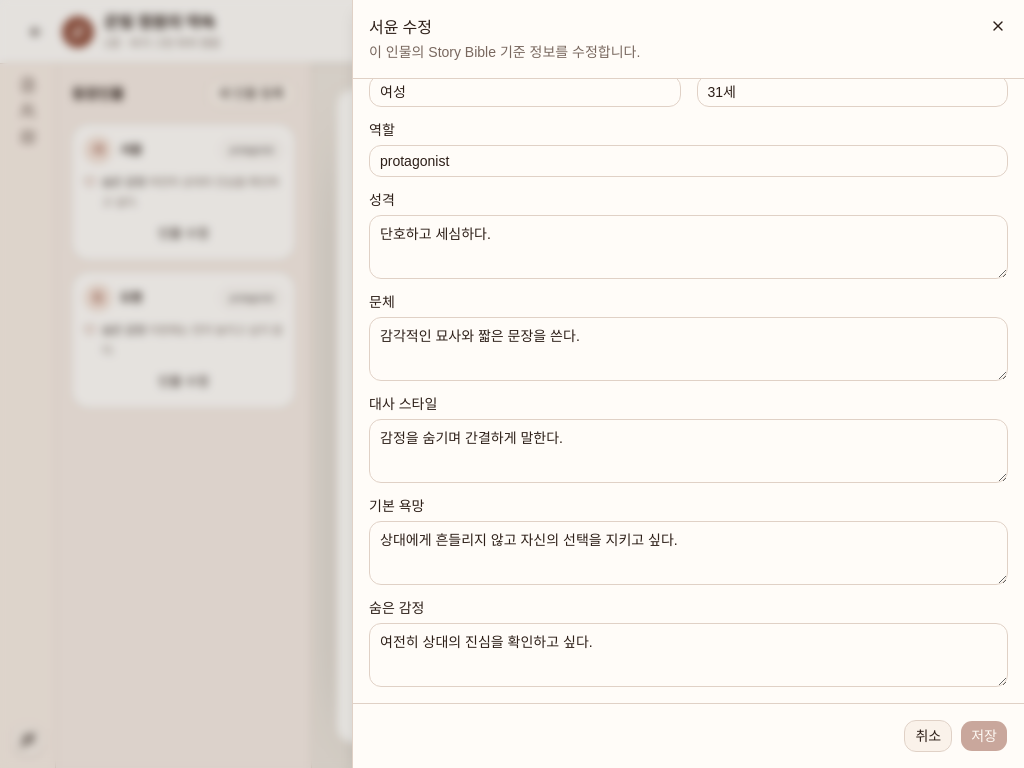
Test case: WritingWorkspacePage › models a character mutation 404 as unavailable while preserving the draft
The width and height of the screenshot is (1024, 768).
(page scrolled)
Replace the text in the text box labelled "숨은 감정" with "404 뒤에도 남는 초안". click: (688,655)
box: top-left (369, 623), bottom-right (1008, 687)
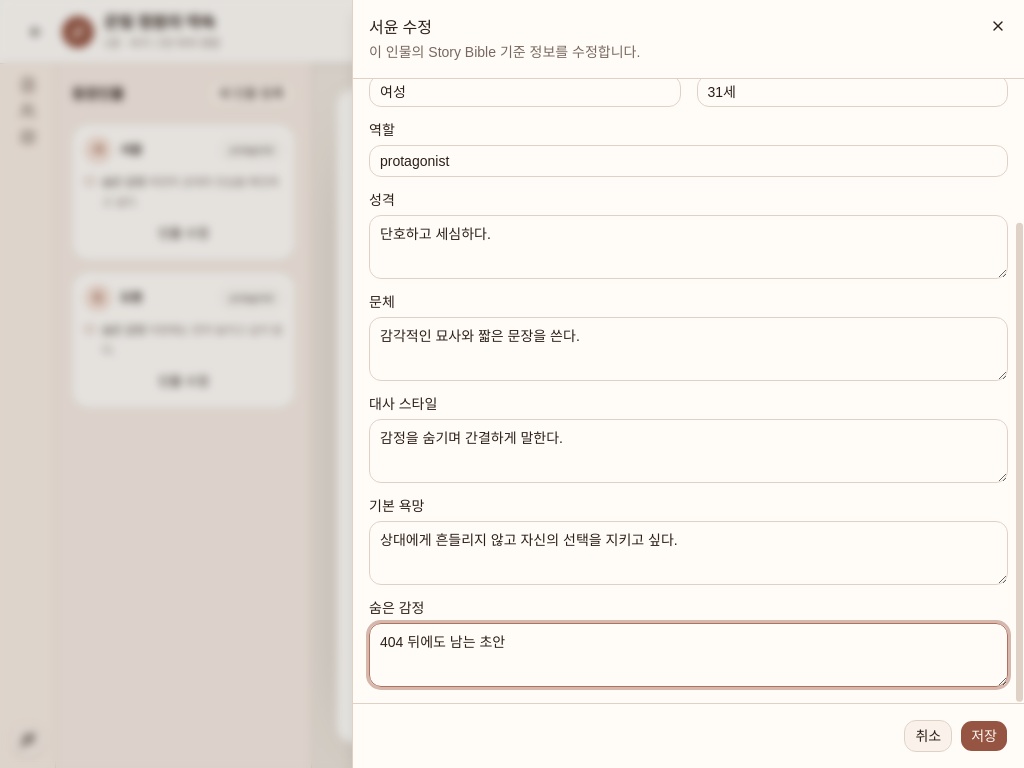
Click the button "저장". click: (984,736)
box: top-left (960, 720), bottom-right (1008, 752)
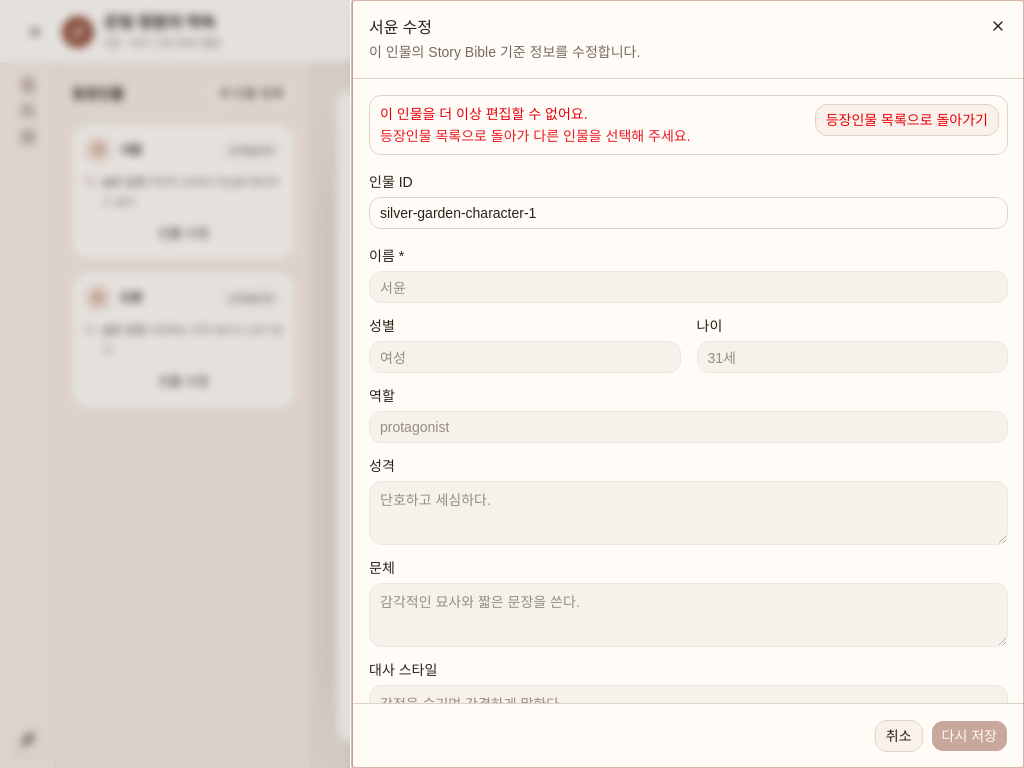
Expected: the message shows "더 이상 편집할 수 없어요", top-left (380, 106), bottom-right (588, 122)
Expected: the button "다시 저장" is disabled, top-left (931, 720), bottom-right (1008, 752)
Expected: the button "등장인물 목록으로 돌아가기" is shown, top-left (815, 104), bottom-right (999, 136)
